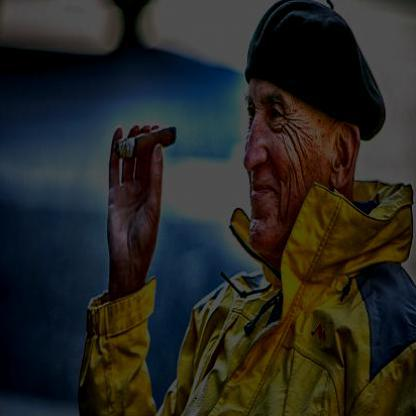cigarette: (113, 124, 177, 160)
person: (204, 0, 415, 415)
